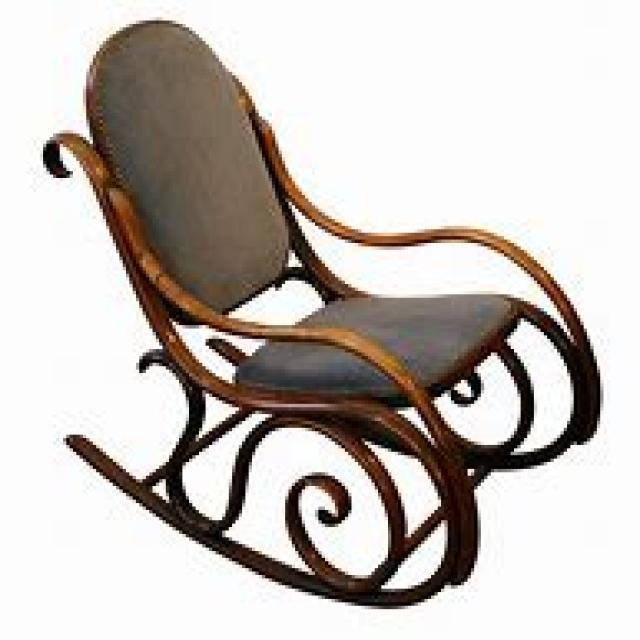chair: (40, 13, 603, 606)
